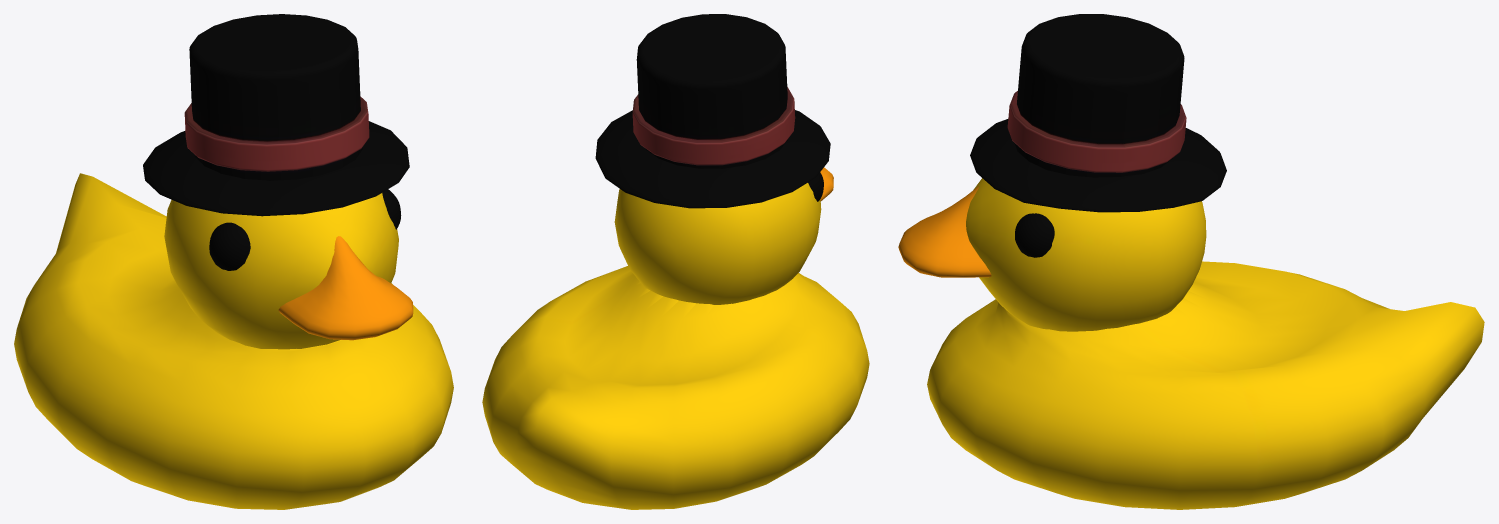
Rendered from rubber_duck.glb.
3 views of the same model, side by side, from view 1: azimuth 30°, elevation 25°; view 2: azimuth 150°, elevation 25°; view 3: azimuth 270°, elevation 25° (orthographic). The views are drawn at different scales.
Visible parts, largest first — view 1: defaultMaterial; view 2: defaultMaterial; view 3: defaultMaterial.
Boxes of the visible parts, left/top/right/bottom form: defaultMaterial: left=14, top=14, right=453, bottom=509; defaultMaterial: left=482, top=14, right=869, bottom=509; defaultMaterial: left=898, top=14, right=1484, bottom=509.
Bounding box in the file's own units: 1.33 × 1.65 × 2.
Materials: 1 (1 with a texture image).
